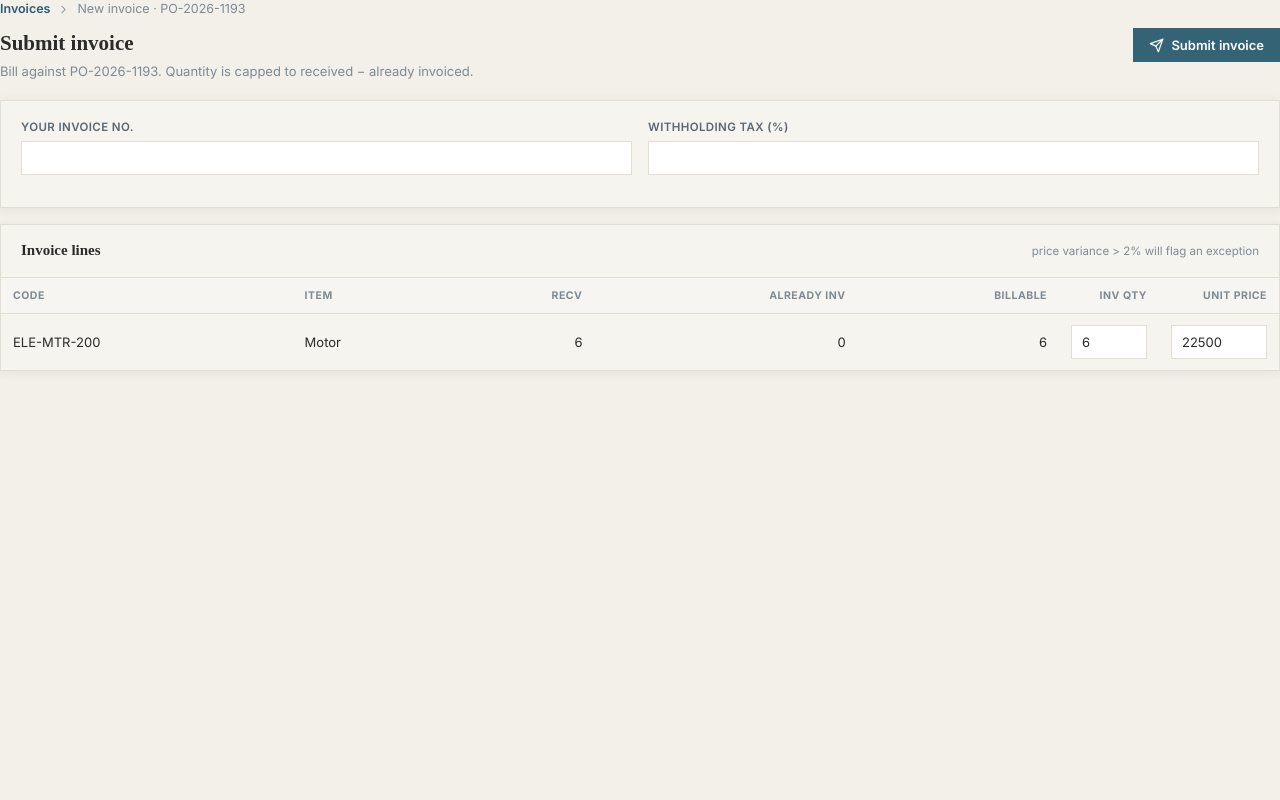
Scenario: Invoice screens › shows a success panel with the new invoice code after submitting
The image size is (1280, 800).
Click the button "Submit invoice" at x=1207, y=45, box 1133,28 -> 1279,62
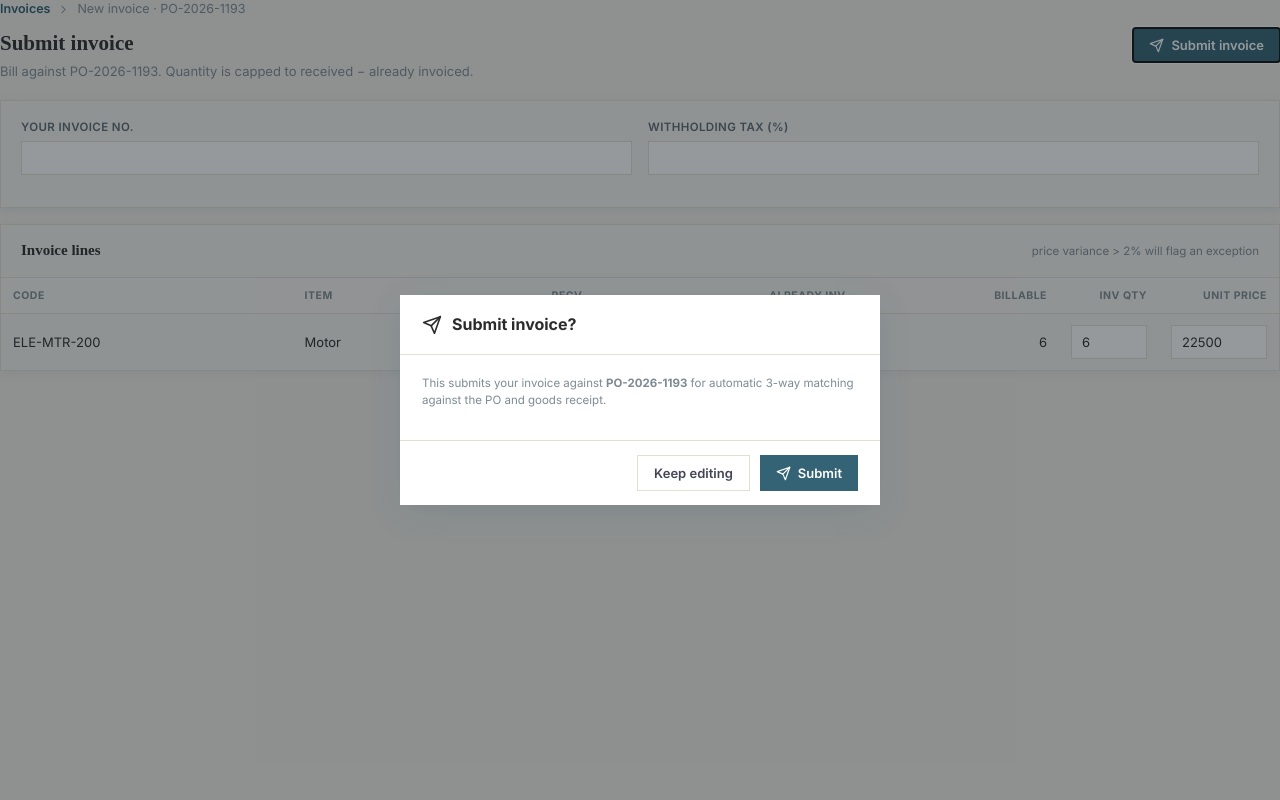
Click the button "Submit" at x=809, y=473, box 760,455 -> 858,491
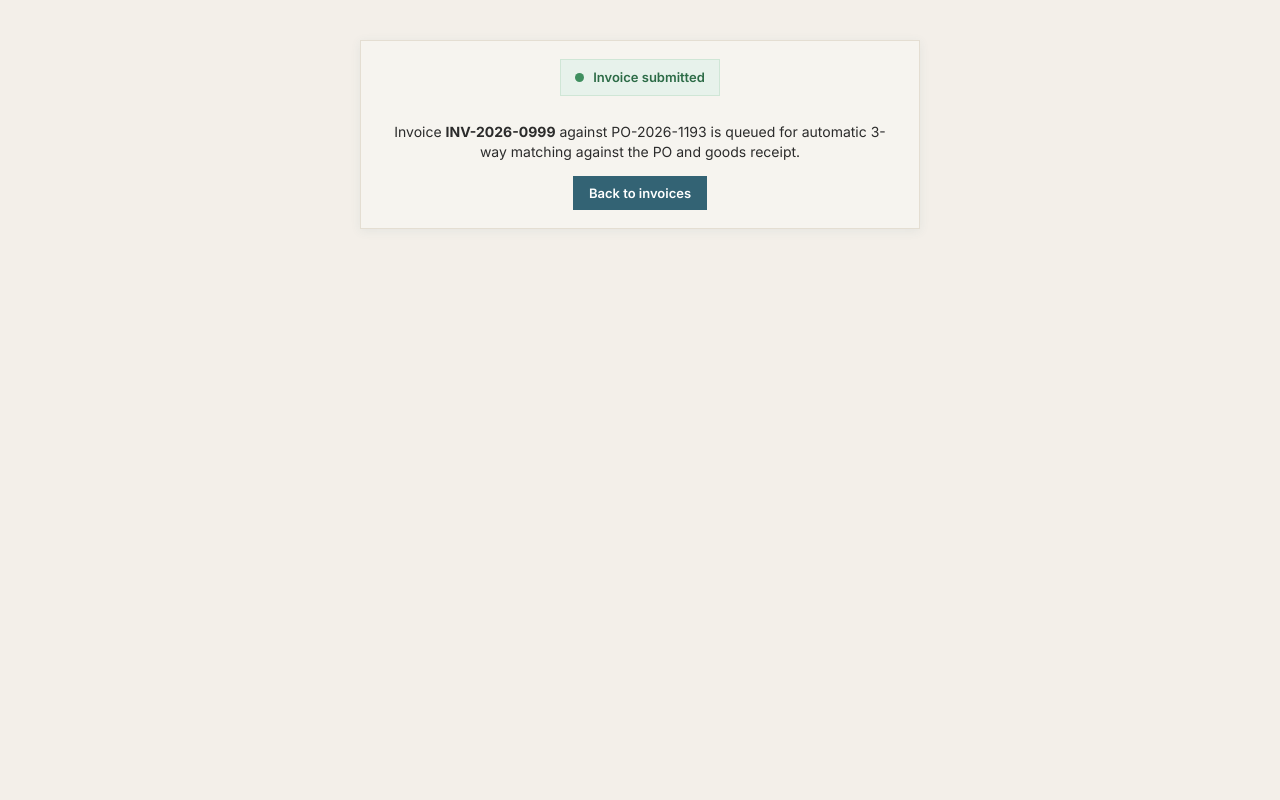
Now the text "Invoice submitted" is shown, box 560,59 -> 720,96
Now the text "INV-2026-0999" is shown, box 446,123 -> 555,140
